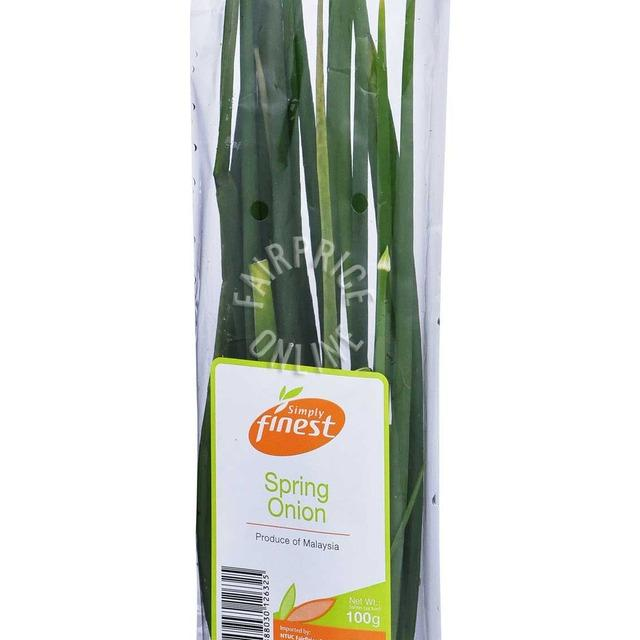green_onion: (181, 0, 456, 640)
